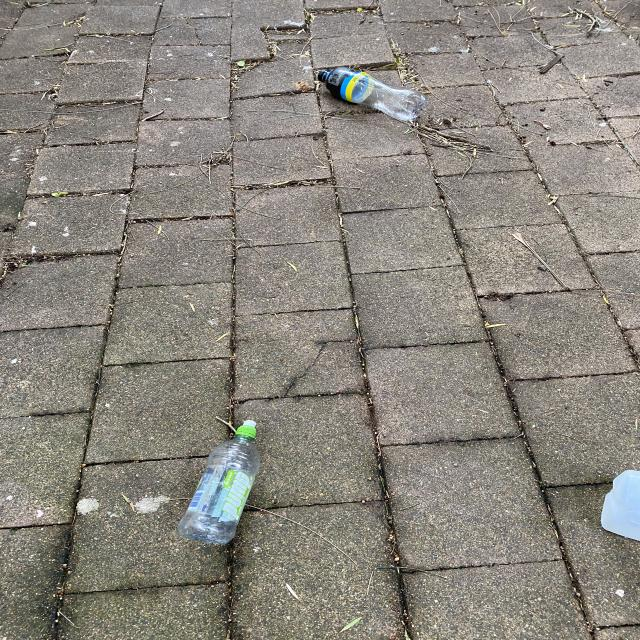bottle: (175, 414, 262, 556), (318, 65, 430, 118), (590, 459, 640, 560)
